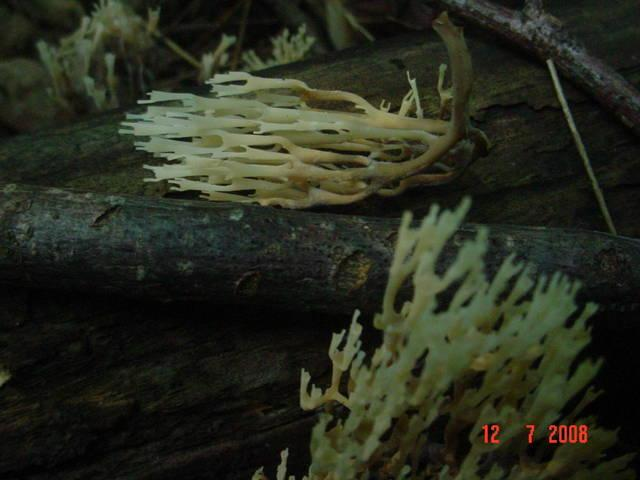edible_mushroom: (117, 9, 490, 209)
